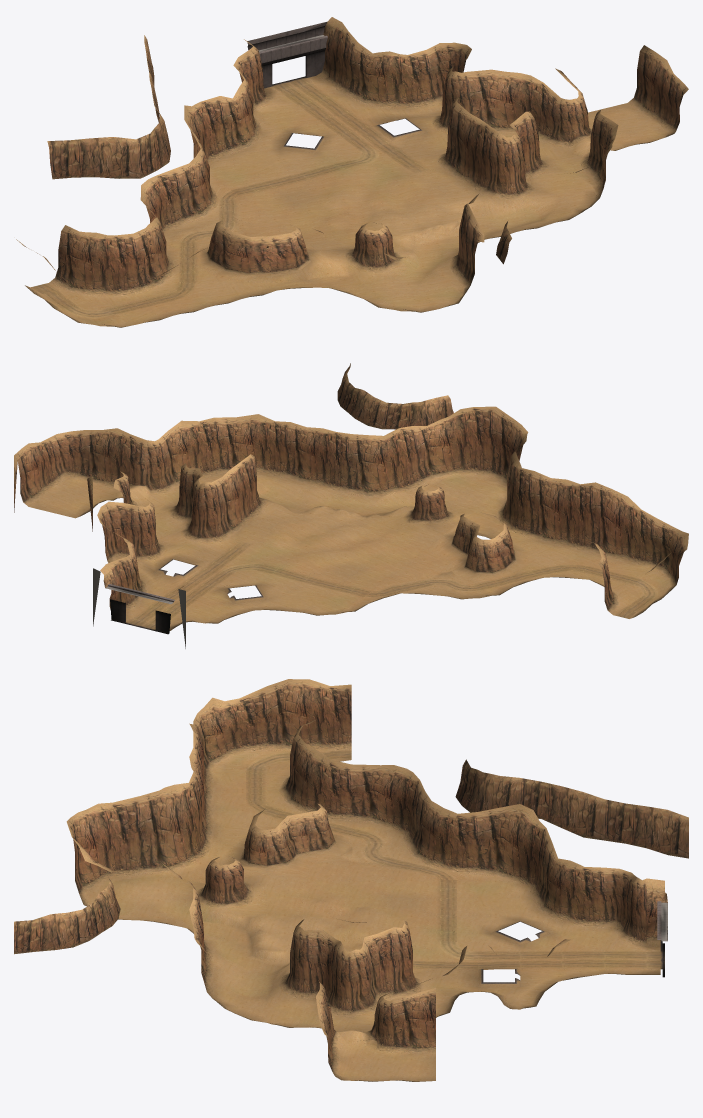
File: Zone05.glb
3 views of the same model, one above another, from view 1: azimuth 30°, elevation 25°; view 2: azimuth 150°, elevation 25°; view 3: azimuth 270°, elevation 25° (orthographic). The views are drawn at different scales.
Parts seen in each view (by area): view 1: ZONE05069, ZONE05136, ZONE05158, ZONE05058, ZONE05074, ZONE05165, ZONE05059, ZONE05111, ZONE05153, ZONE05045, ZONE05031, ZONE05105 (+98 smaller); view 2: ZONE05004, ZONE05036, ZONE05027, ZONE05026, ZONE05034, ZONE05028, ZONE05021, ZONE05091, ZONE05035, ZONE05025, ZONE05037, ZONE05118 (+91 smaller); view 3: ZONE05010, ZONE05141, ZONE05073, ZONE05018, ZONE05056, ZONE05122, ZONE05093, ZONE05039, ZONE05162, ZONE05128, ZONE05029, ZONE05077 (+89 smaller).
Boxes of the visible parts, x1,y1,x2,y2 form: ZONE05069: (481, 131, 525, 218); ZONE05136: (466, 69, 523, 133); ZONE05158: (387, 43, 442, 117); ZONE05058: (94, 228, 147, 305); ZONE05074: (47, 225, 98, 298); ZONE05165: (333, 43, 392, 111); ZONE05059: (136, 225, 182, 297); ZONE05111: (179, 161, 228, 228); ZONE05153: (222, 94, 271, 159); ZONE05045: (251, 230, 308, 286); ZONE05031: (349, 228, 393, 284); ZONE05105: (542, 98, 588, 159); ZONE05004: (444, 406, 495, 477); ZONE05036: (267, 422, 322, 489); ZONE05027: (552, 479, 595, 556); ZONE05026: (583, 482, 627, 563); ZONE05034: (339, 434, 386, 508); ZONE05028: (522, 471, 566, 548); ZONE05021: (381, 426, 426, 501); ZONE05091: (64, 428, 116, 490); ZONE05035: (308, 428, 351, 501); ZONE05025: (613, 497, 656, 570); ZONE05037: (238, 414, 290, 479); ZONE05118: (183, 481, 236, 553); ZONE05010: (98, 796, 140, 884); ZONE05141: (478, 804, 520, 884); ZONE05073: (309, 679, 351, 759); ZONE05018: (140, 790, 182, 879); ZONE05056: (267, 679, 309, 761); ZONE05122: (393, 987, 435, 1058); ZONE05093: (351, 764, 393, 830); ZONE05039: (225, 686, 266, 761); ZONE05162: (562, 867, 604, 933); ZONE05128: (436, 812, 477, 879); ZONE05029: (182, 772, 224, 869); ZONE05077: (309, 759, 351, 829).
Size of the model in its own units: 158 by 19.44 by 128.
20 materials, 20 textured.
